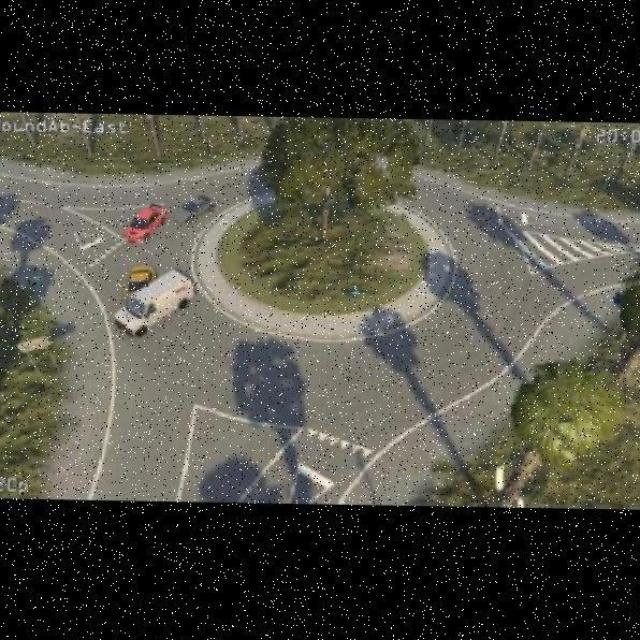accident: (105, 262, 155, 326)
